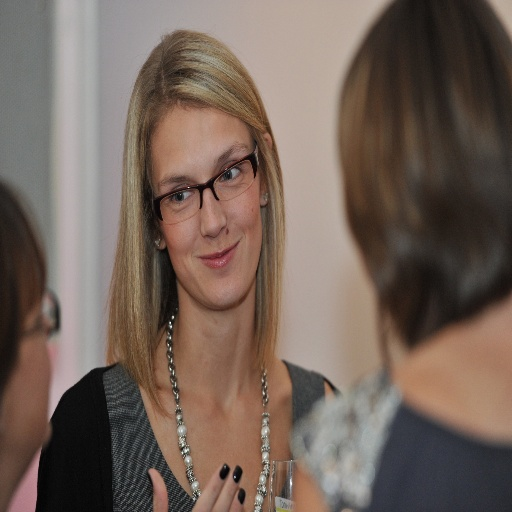hand: (146, 460, 244, 511)
